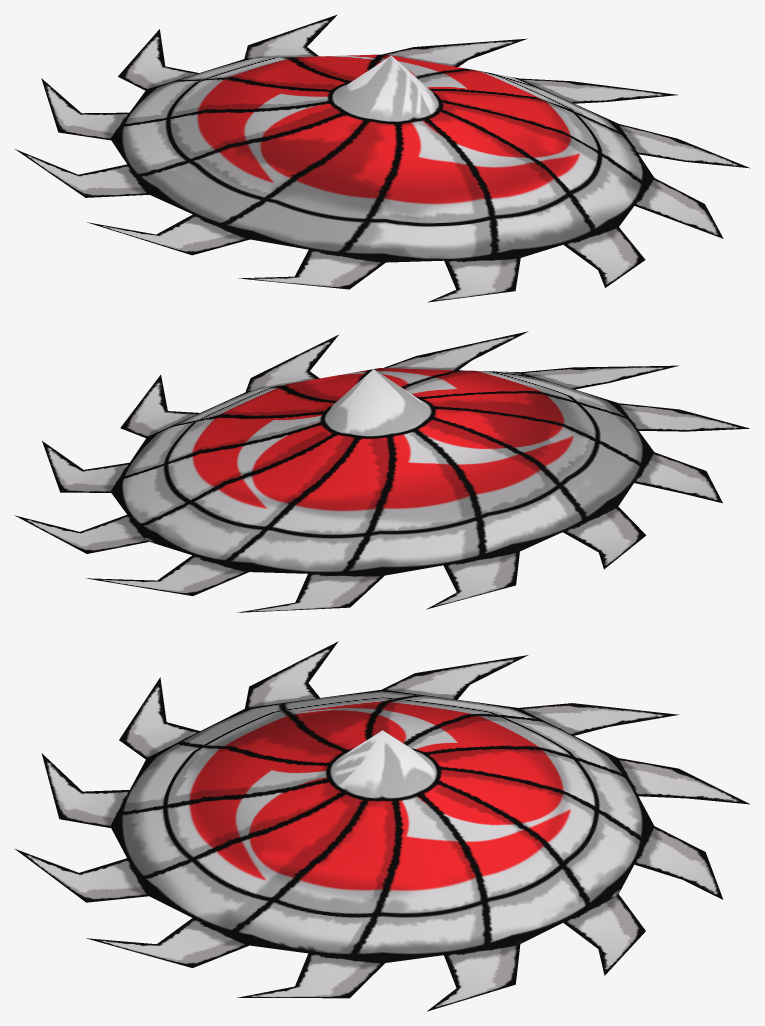
File: WP_0H_VanguardShield_KS.FBX
3 views of the same model, one above another, from view 1: azimuth 30°, elevation 25°; view 2: azimuth 150°, elevation 25°; view 3: azimuth 270°, elevation 25° (orthographic).
Visible parts, largest first — view 1: WP_0H_VanguardShield_KS; view 2: WP_0H_VanguardShield_KS; view 3: WP_0H_VanguardShield_KS.
Boxes of the visible parts, <box> form: WP_0H_VanguardShield_KS: <box>15,14,750,302</box>; WP_0H_VanguardShield_KS: <box>14,331,749,612</box>; WP_0H_VanguardShield_KS: <box>14,641,749,1011</box>.
Bounding box in the file's own units: 74.79 × 15.37 × 75.1.
